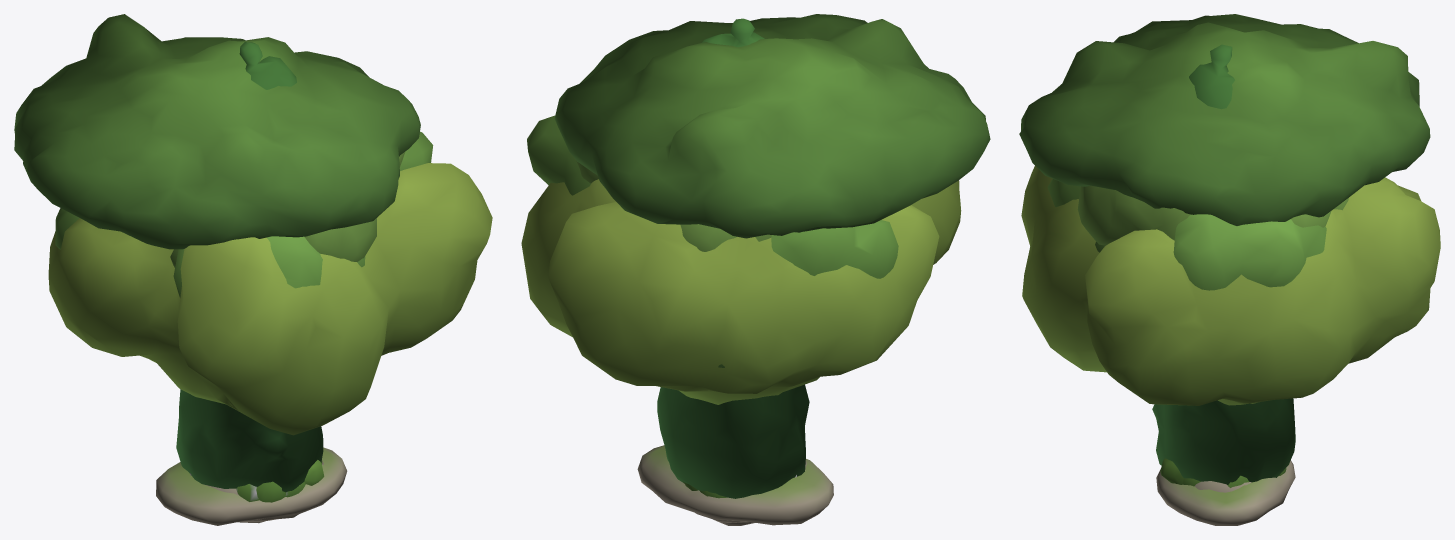
Rendered from vegetation.glb.
3 views of the same model, side by side, from view 1: azimuth 30°, elevation 25°; view 2: azimuth 150°, elevation 25°; view 3: azimuth 270°, elevation 25° (orthographic). The views are drawn at different scales.
Visible parts, largest first — view 1: pine_lod0, broadleaf_c_lod0, cypress_lod0, rock_b_lod0, broadleaf_a_lod0, broadleaf_b_lod0, bush_lod0; view 2: pine_lod0, broadleaf_c_lod0, cypress_lod0, broadleaf_a_lod0, rock_b_lod0, broadleaf_b_lod0; view 3: pine_lod0, broadleaf_c_lod0, cypress_lod0, broadleaf_a_lod0, rock_b_lod0, broadleaf_b_lod0, bush_lod0.
Part boxes in pixels (x1,y1,x2,y2): pine_lod0: (14, 14, 420, 249); broadleaf_c_lod0: (48, 163, 492, 435); cypress_lod0: (176, 42, 323, 492); rock_b_lod0: (156, 447, 347, 525); broadleaf_a_lod0: (55, 131, 433, 297); broadleaf_b_lod0: (170, 151, 405, 267); bush_lod0: (256, 460, 324, 502); pine_lod0: (554, 14, 990, 238); broadleaf_c_lod0: (521, 179, 961, 404); cypress_lod0: (657, 18, 809, 498); broadleaf_a_lod0: (527, 115, 898, 367); rock_b_lod0: (637, 445, 833, 525); broadleaf_b_lod0: (576, 160, 771, 251); pine_lod0: (1019, 14, 1430, 225); broadleaf_c_lod0: (1021, 166, 1440, 405); cypress_lod0: (1152, 44, 1295, 484); broadleaf_a_lod0: (1047, 179, 1326, 290); rock_b_lod0: (1156, 460, 1295, 525); broadleaf_b_lod0: (1077, 185, 1348, 245); bush_lod0: (1160, 458, 1289, 487).
Size of what is drawn, in the model's own units: 14.86 by 16.42 by 13.79.
